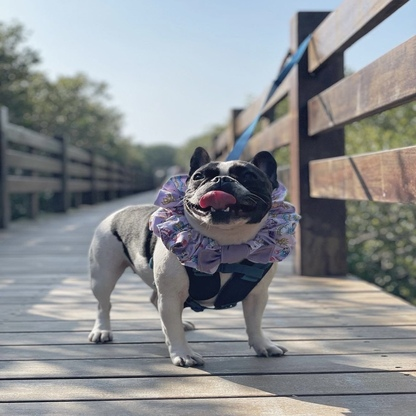bulldog: (85, 144, 294, 371)
